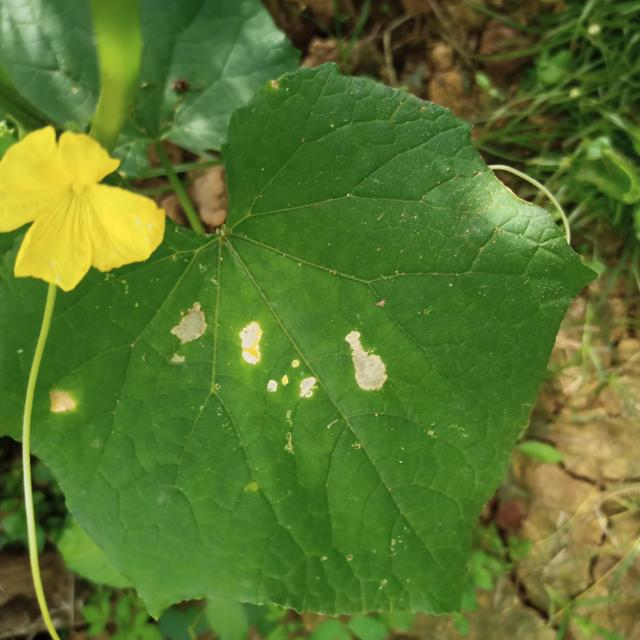disease_cucumber: (169, 301, 390, 401), (46, 387, 78, 418)
